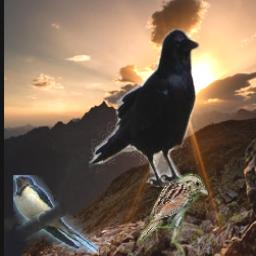Crow: (90, 27, 203, 187)
Sparrow: (139, 174, 209, 256)
Swallow: (13, 175, 99, 253)
